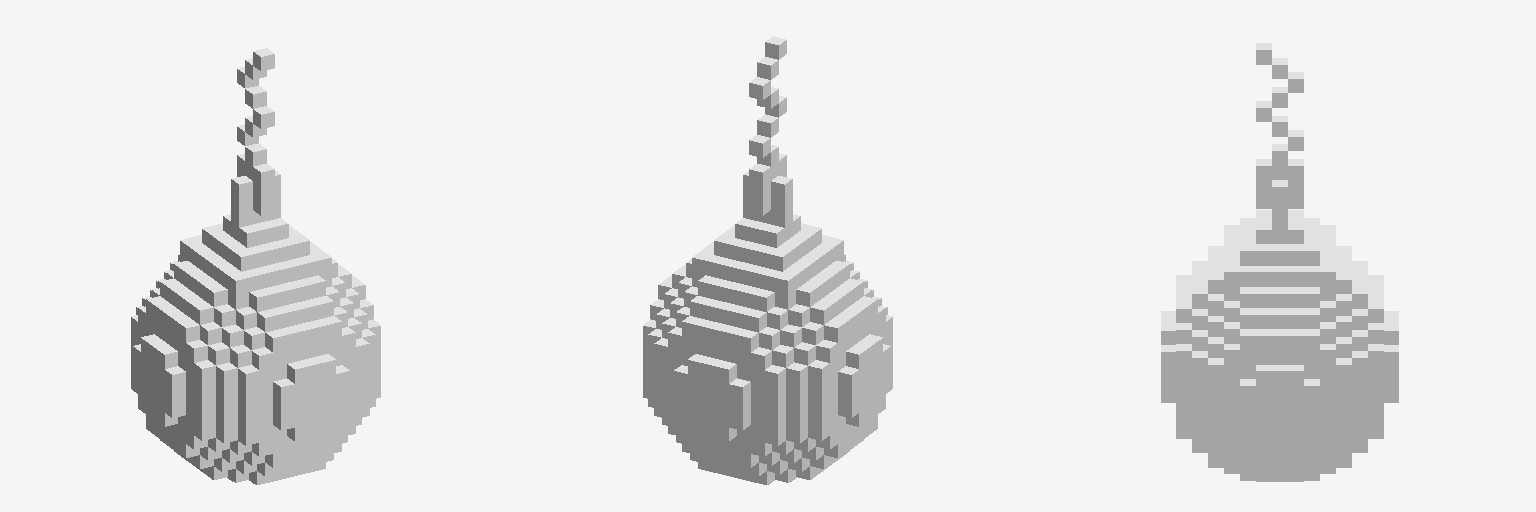
The model's file is Buoy.obj.
3 renders of one model, left to right at view 1: azimuth 30°, elevation 25°; view 2: azimuth 150°, elevation 25°; view 3: azimuth 270°, elevation 25°, orthographic.
Parts seen in each view (by area): view 1: object 1; view 2: object 1; view 3: object 1.
Part boxes in pixels (x1,y1,x2,y2): object 1: (131, 48, 380, 484); object 1: (643, 36, 892, 484); object 1: (1161, 43, 1398, 481).
Bounding box in the file's own units: 1.5 × 2.9 × 1.5.